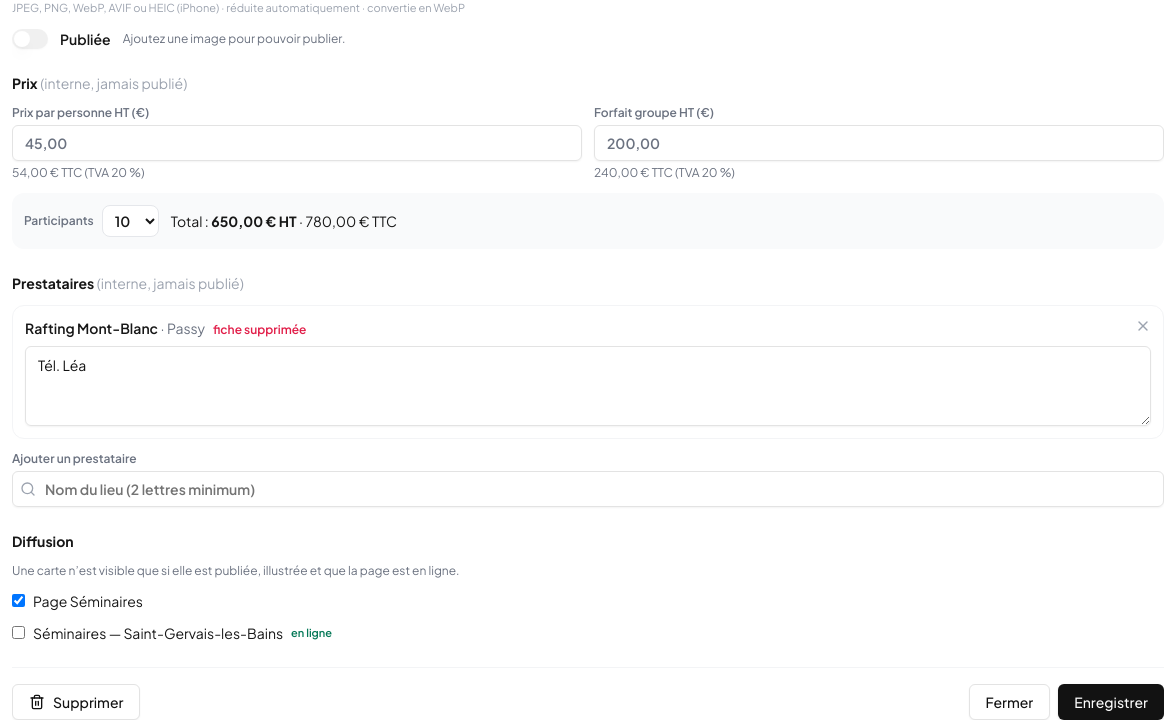
Test: spec 097 AC-06 / AC-07 — prestataires et diffusion › affiche l’erreur serveur sans faux succès
(page scrolled)
Click the button "Enregistrer". click: {"x": 1111, "y": 702}
box: [1058,684,1164,719]
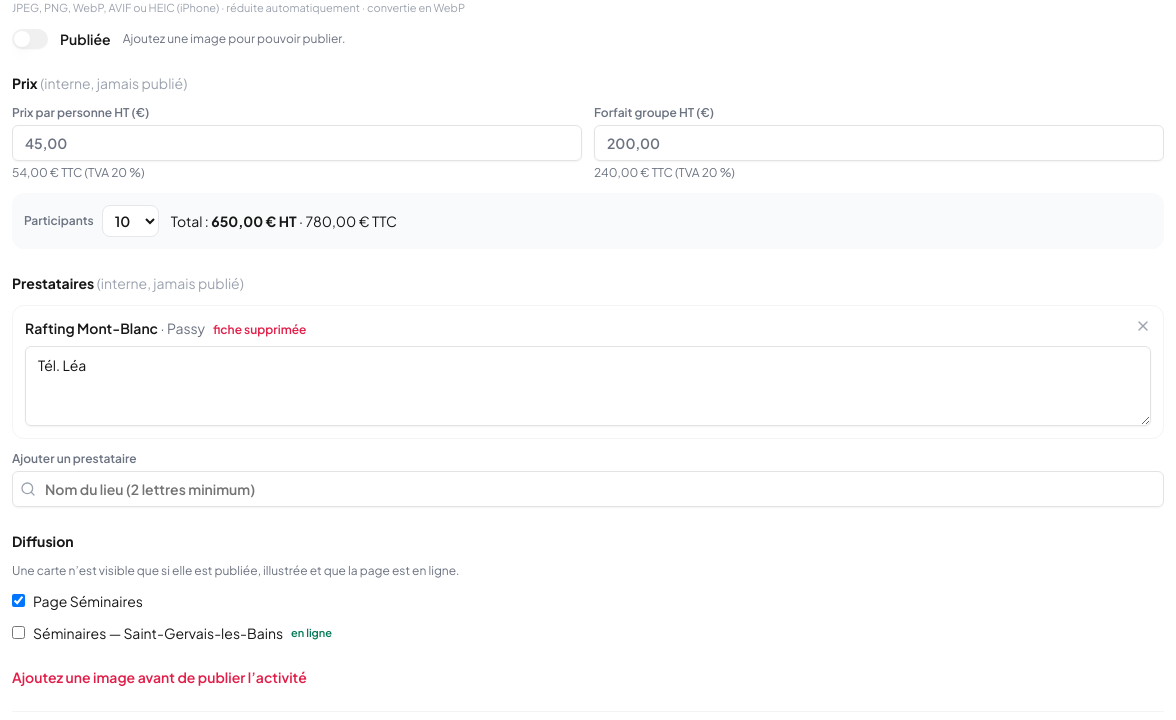
expect the message reads "Ajoutez une image avant de publier l’activité": met, box [12,668,307,686]
